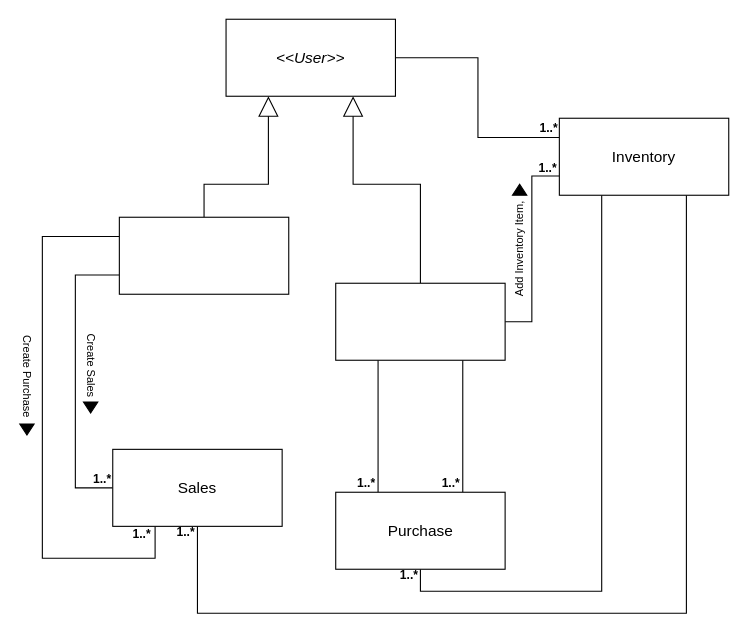
The diagram is 748 pixels wide and 634 high, and some of its shapes have lost their labels. Here are the shapes that lost their labels. From the top down, the centre of each, then its label:
At (203,255): "Employee".
At (420,321): "Super Admin".
